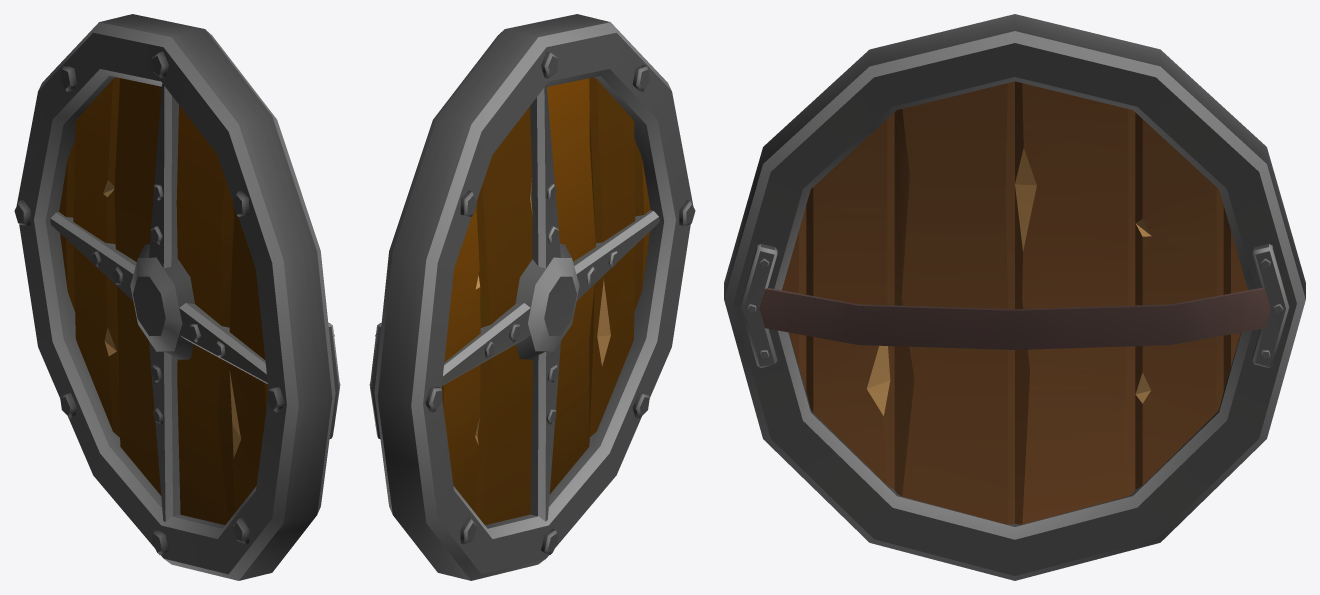
File: Shield_2_B.glb
3 renders of one model, left to right at view 1: azimuth 30°, elevation 25°; view 2: azimuth 150°, elevation 25°; view 3: azimuth 270°, elevation 25°, orthographic. The views are drawn at different scales.
Visible parts, largest first — view 1: Shield_2_B; view 2: Shield_2_B; view 3: Shield_2_B.
Boxes of the visible parts, box(x1,y1,x2,y2) form: Shield_2_B: box(14, 14, 340, 580); Shield_2_B: box(369, 14, 695, 580); Shield_2_B: box(724, 14, 1305, 580).
Bounding box in the file's own units: 0.1518 × 0.7075 × 0.6784.
2 materials, 2 textured.
